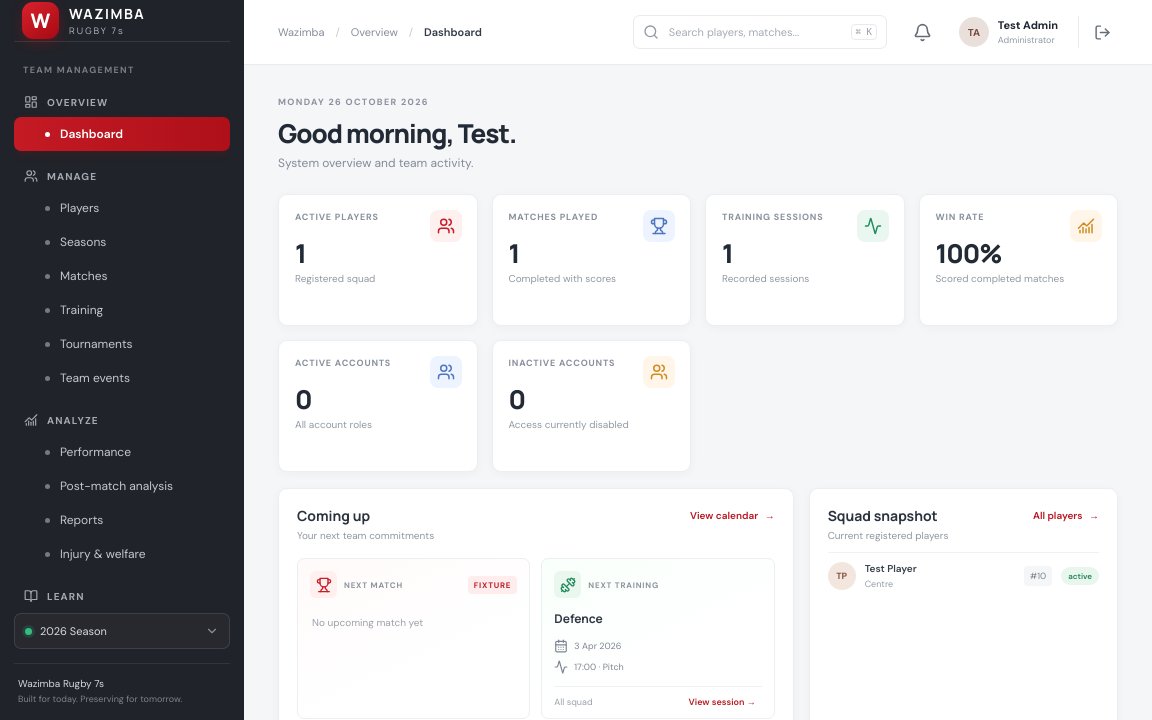
Test: Wazimba app interactions › searches the saved match records from the global search box
The width and height of the screenshot is (1152, 720).
In the field with placeholder "Search players, matches...": point(755, 32) [667,24,843,40], type "Test RFC"
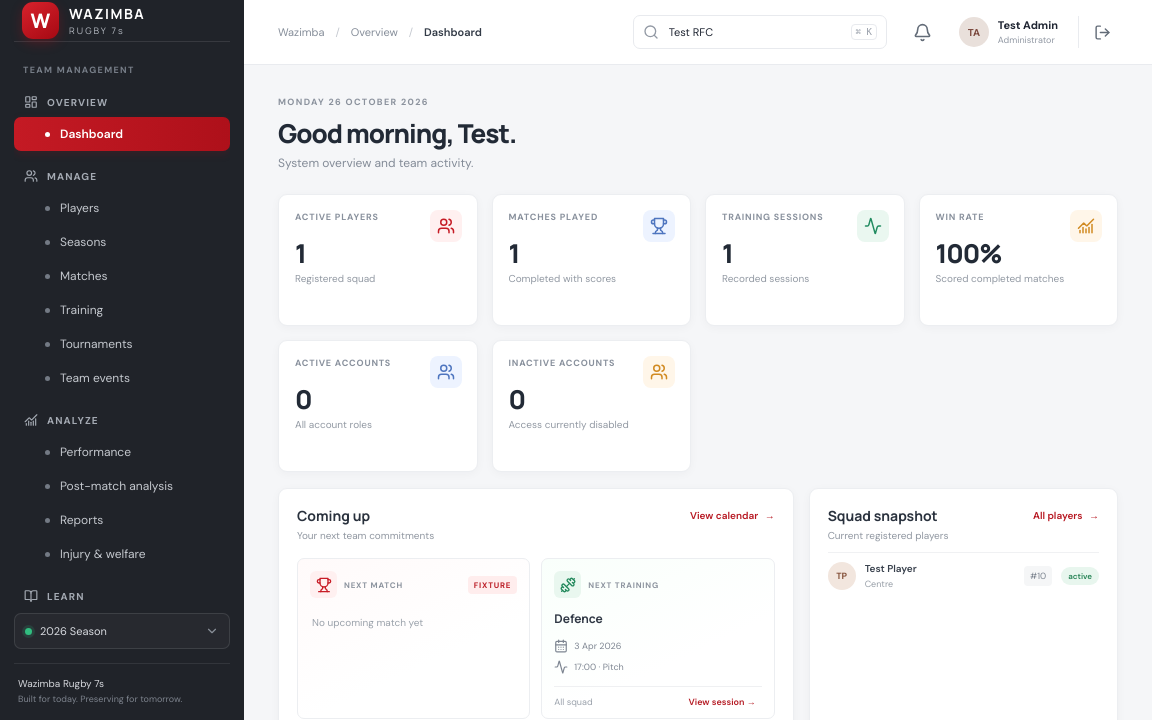
Press Enter
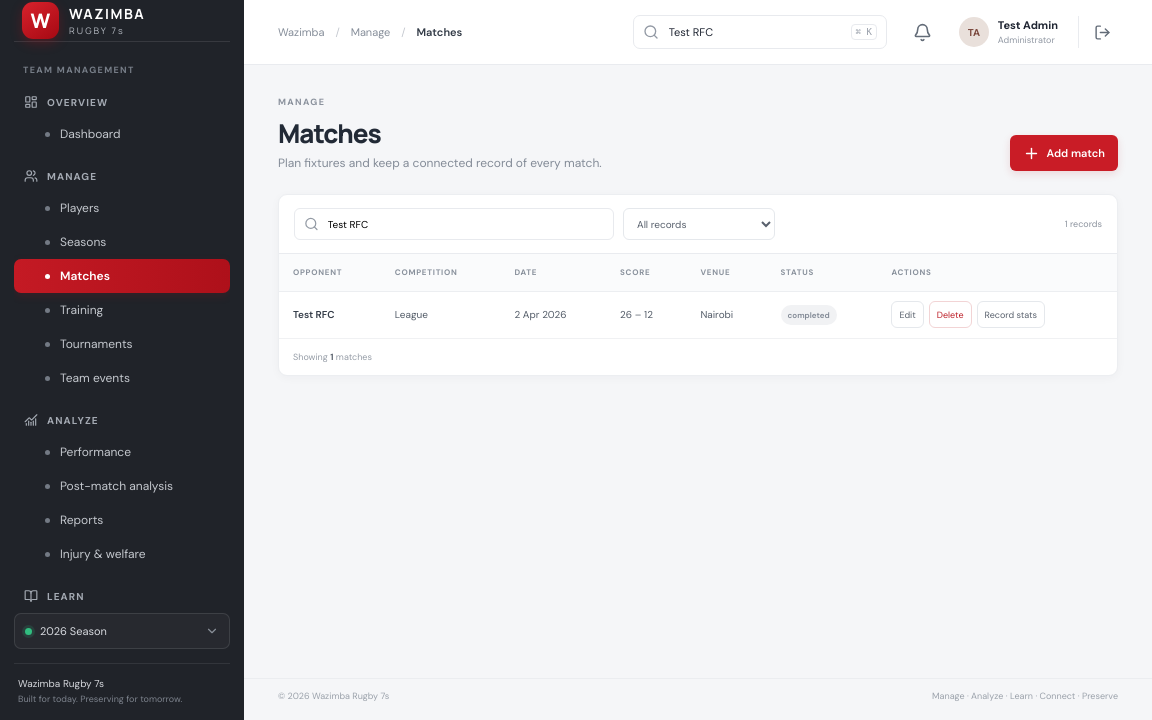
Expected: the heading "Matches" is shown, [278,115,381,151]
Expected: the row "Test RFC" is shown, [279,291,1117,338]
